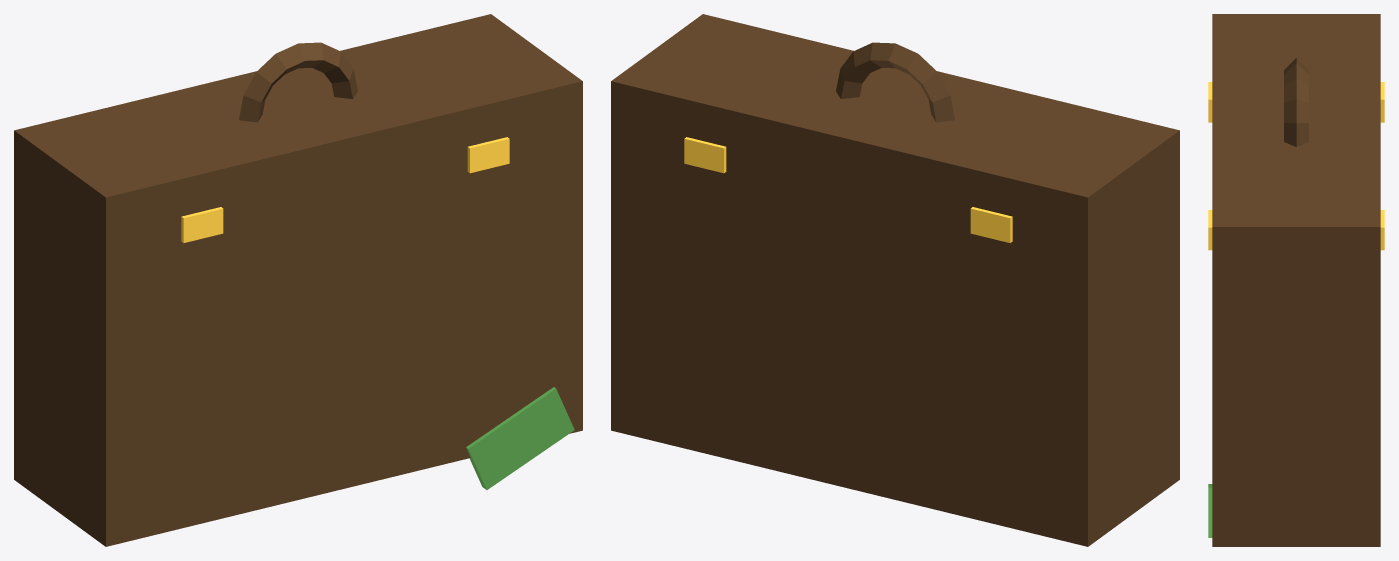
Rendered from fake_money_case.glb.
3 views of the same model, side by side, from view 1: azimuth 30°, elevation 25°; view 2: azimuth 150°, elevation 25°; view 3: azimuth 270°, elevation 25° (orthographic). The views are drawn at different scales.
Parts seen in each view (by area): view 1: case_suitcase, bills_bill_green, handle_suitcase, case_gold; view 2: case_suitcase, handle_suitcase, case_gold; view 3: case_suitcase, handle_suitcase, case_gold, bills_bill_green.
Part boxes in pixels (bbox=[...]): case_suitcase: bbox=[14, 14, 582, 546]; bills_bill_green: bbox=[466, 387, 574, 489]; handle_suitcase: bbox=[239, 42, 357, 122]; case_gold: bbox=[181, 137, 509, 242]; case_suitcase: bbox=[611, 14, 1179, 546]; handle_suitcase: bbox=[836, 42, 954, 122]; case_gold: bbox=[684, 137, 1012, 242]; case_suitcase: bbox=[1212, 14, 1380, 546]; handle_suitcase: bbox=[1284, 58, 1308, 146]; case_gold: bbox=[1208, 82, 1384, 250]; bills_bill_green: bbox=[1208, 484, 1212, 537].
Size of the model in its own units: 0.6 by 0.536 by 0.21.
